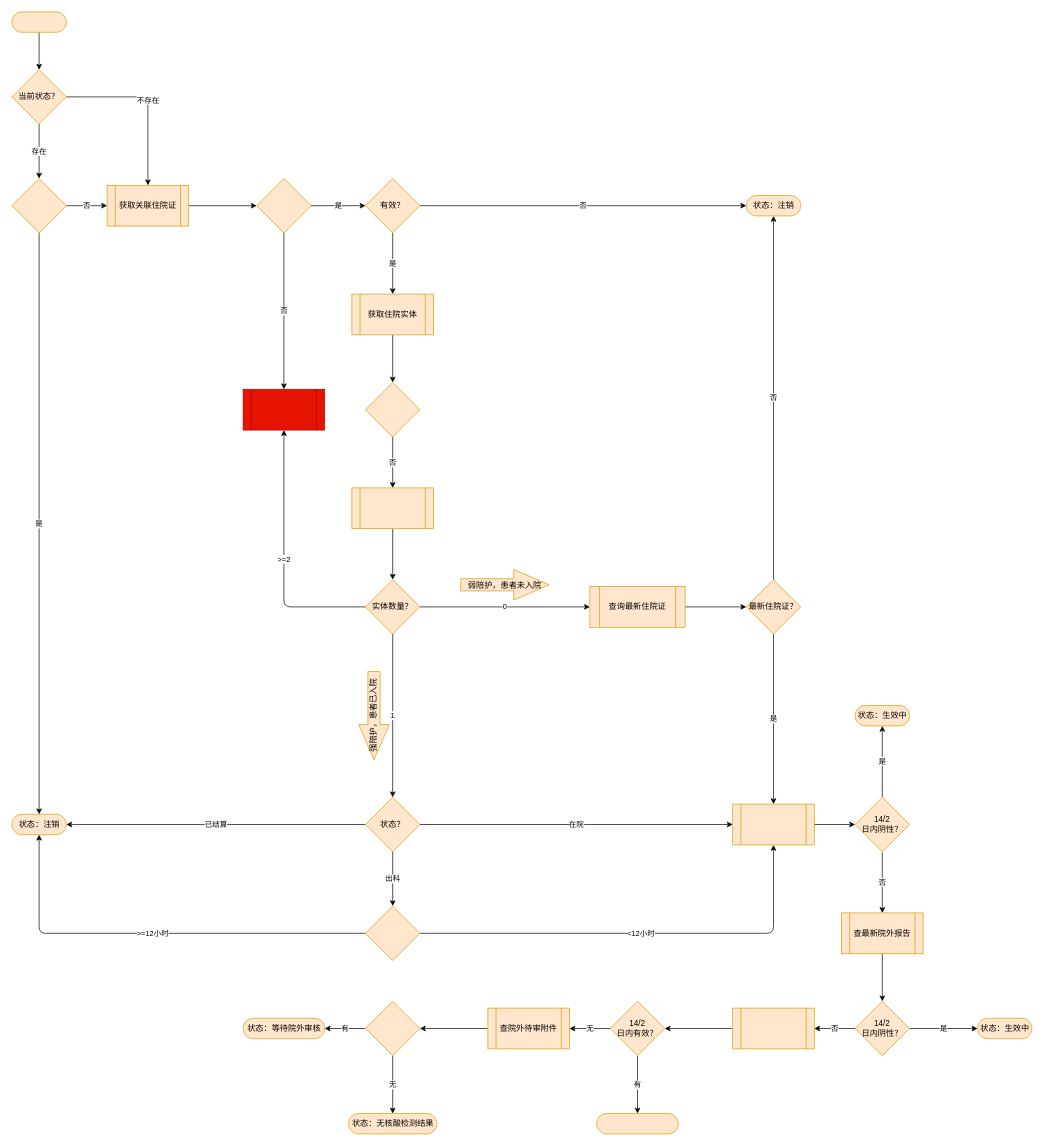
Some shapes in this 1044 by 1146 pixel diagram are drawn without their labels. Each missing label, with the centre of its shape:
"7日内有效？" goes at point (392, 1028).
"存在？" goes at point (283, 205).
"已注销？" goes at point (38, 205).
"开始" goes at point (38, 21).
"异常" goes at point (283, 409).
"数量>=2" goes at point (392, 409).
"时长" goes at point (392, 933).
"查最新核酸记录" goes at point (773, 824).
"查陪护核酸划价" goes at point (773, 1028).
"状态：等待院内结果" goes at point (637, 1123).
"过滤出院记录" goes at point (392, 508).
